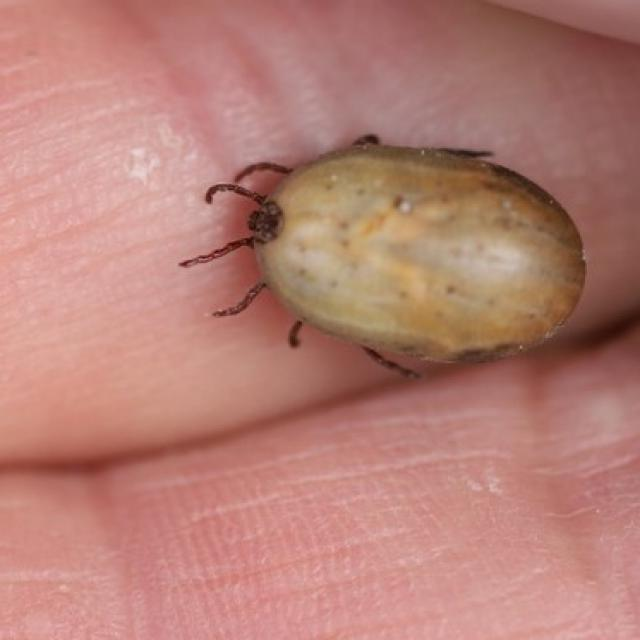Dermacentor Reticulatus-F-Fed: (178, 134, 587, 378)
